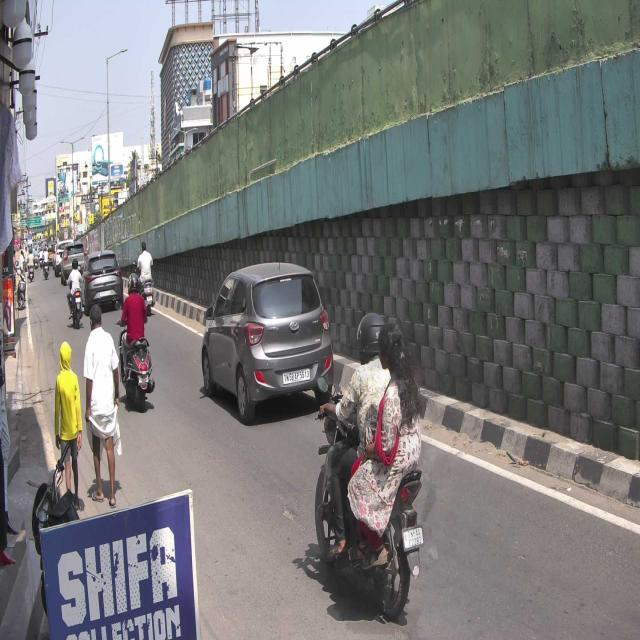double_rider: (313, 311, 426, 621)
